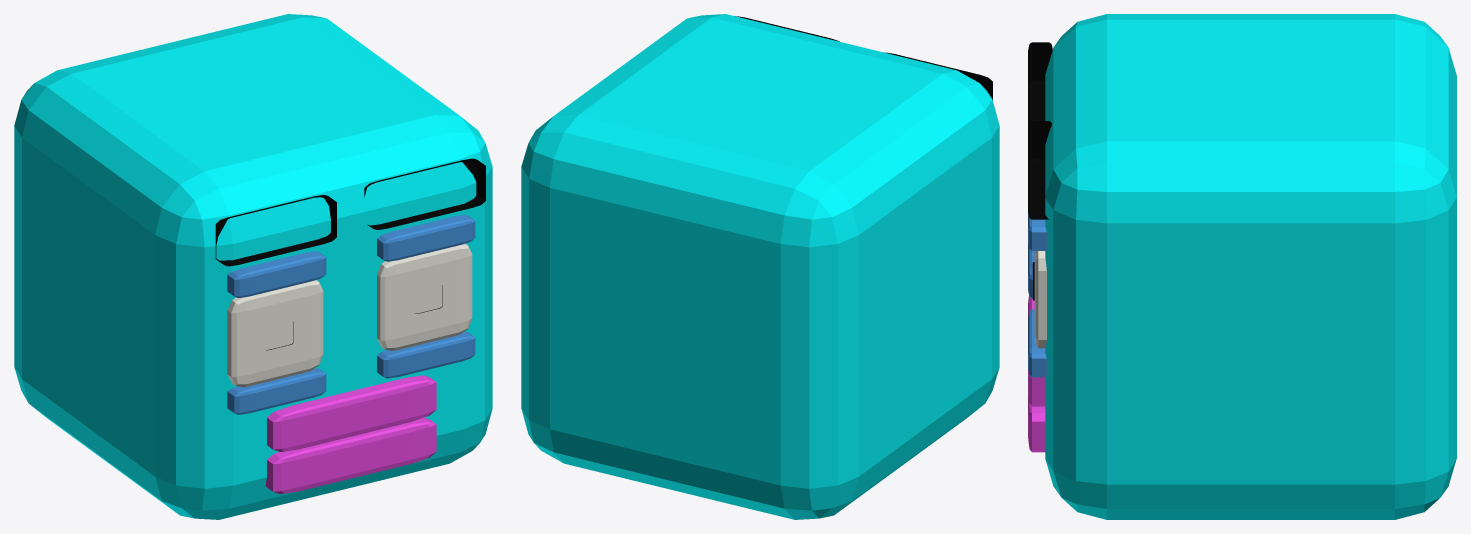
Rendered from pepo.glb.
3 renders of one model, left to right at view 1: azimuth 30°, elevation 25°; view 2: azimuth 150°, elevation 25°; view 3: azimuth 270°, elevation 25°, orthographic. The views are drawn at different scales.
Visible parts, largest first — view 1: Cube; view 2: Cube; view 3: Cube.
Boxes of the visible parts, left/top/right/bottom form: Cube: left=14, top=14, right=492, bottom=519; Cube: left=521, top=14, right=999, bottom=519; Cube: left=1028, top=14, right=1456, bottom=519.
Size of the model in its own units: 1 by 1 by 1.04.
